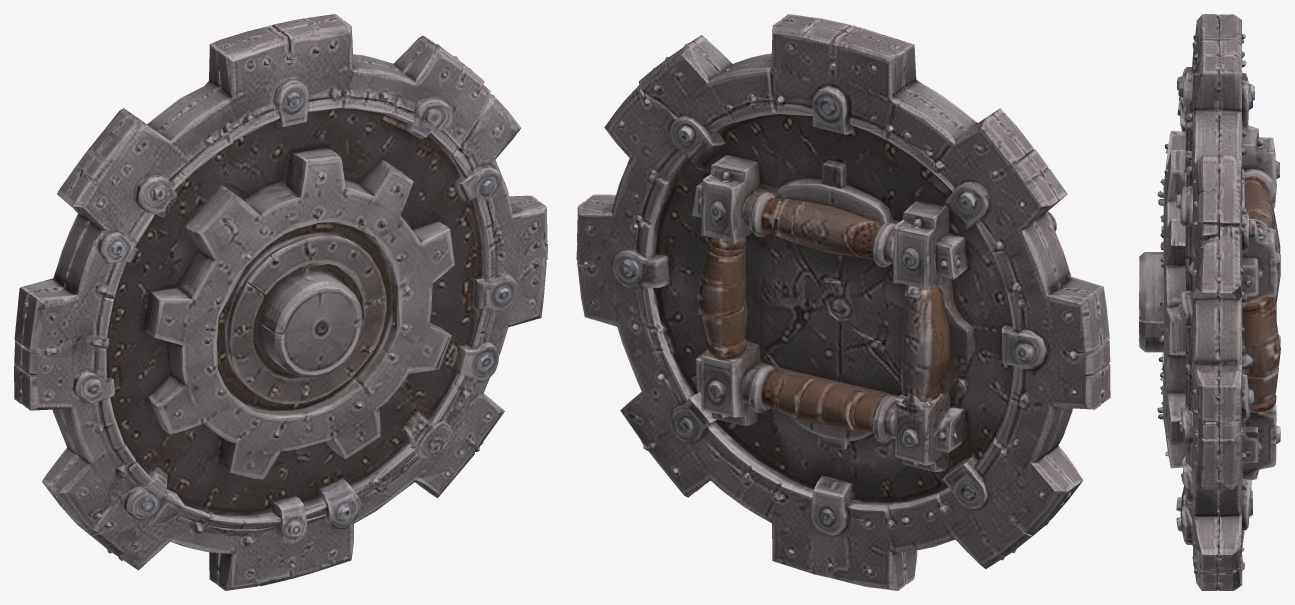
Rendered from gear-shield.glb.
3 views of the same model, side by side, from view 1: azimuth 30°, elevation 25°; view 2: azimuth 150°, elevation 25°; view 3: azimuth 270°, elevation 25° (orthographic). The views are drawn at different scales.
Visible parts, largest first — view 1: Mesh_0; view 2: Mesh_0; view 3: Mesh_0.
Part boxes in pixels (<box>): Mesh_0: <box>14,14,547,590</box>; Mesh_0: <box>576,14,1110,590</box>; Mesh_0: <box>1139,14,1280,590</box>.
Bounding box in the file's own units: 1.9 × 1.9 × 0.4639.
1 material, 1 textured.
